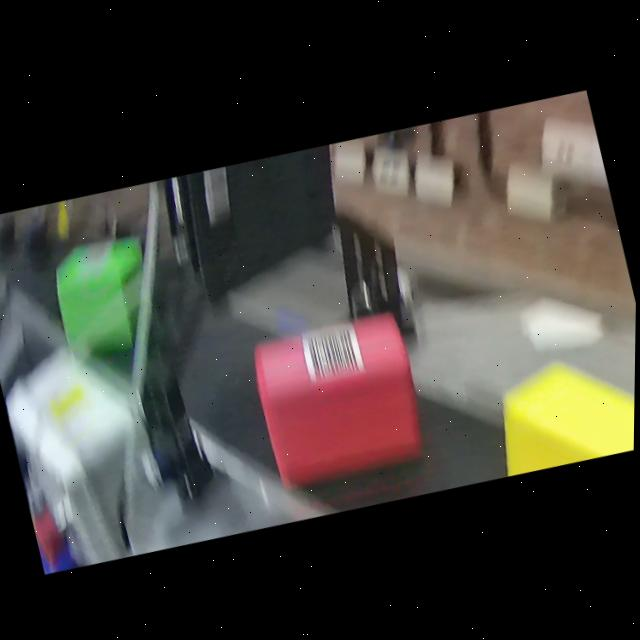greenBox: (43, 221, 173, 372)
redBox: (243, 296, 440, 497)
yellowBox: (481, 323, 636, 476)
